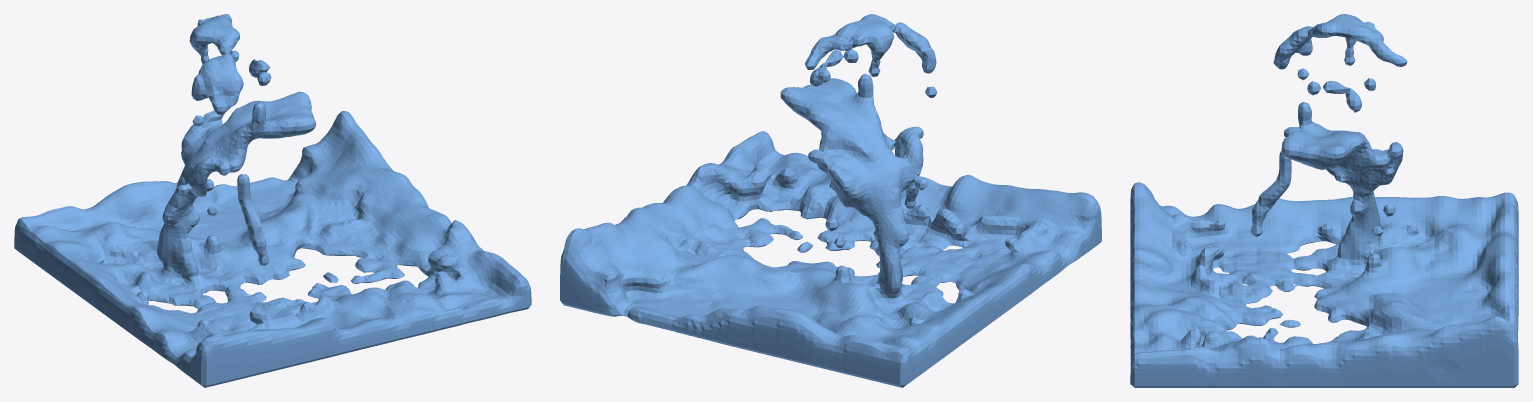
The model's file is water_0094.glb.
3 renders of one model, left to right at view 1: azimuth 30°, elevation 25°; view 2: azimuth 150°, elevation 25°; view 3: azimuth 270°, elevation 25°, orthographic. The views are drawn at different scales.
Visible parts, largest first — view 1: Water_0094; view 2: Water_0094; view 3: Water_0094.
Boxes of the visible parts, x1,y1,x2,y2 form: Water_0094: (14, 14, 531, 387); Water_0094: (560, 14, 1101, 387); Water_0094: (1130, 14, 1518, 387).
Bounding box in the file's own units: 4.83 × 3.62 × 4.83.
